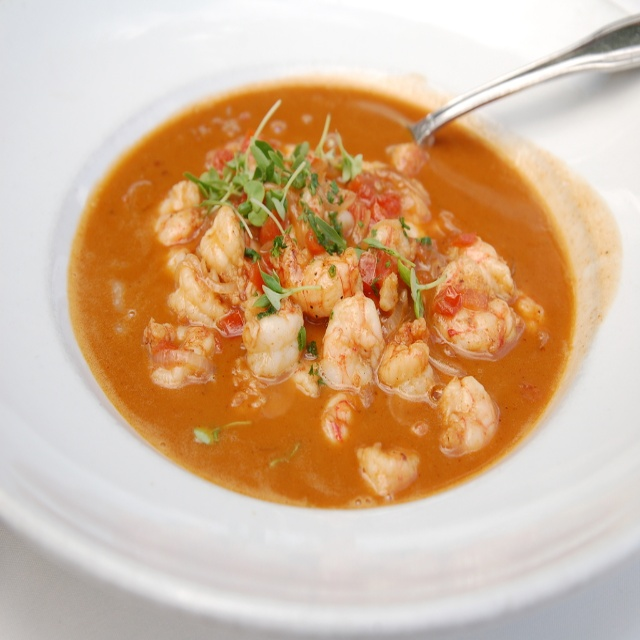Shrimp: (142, 138, 544, 496)
